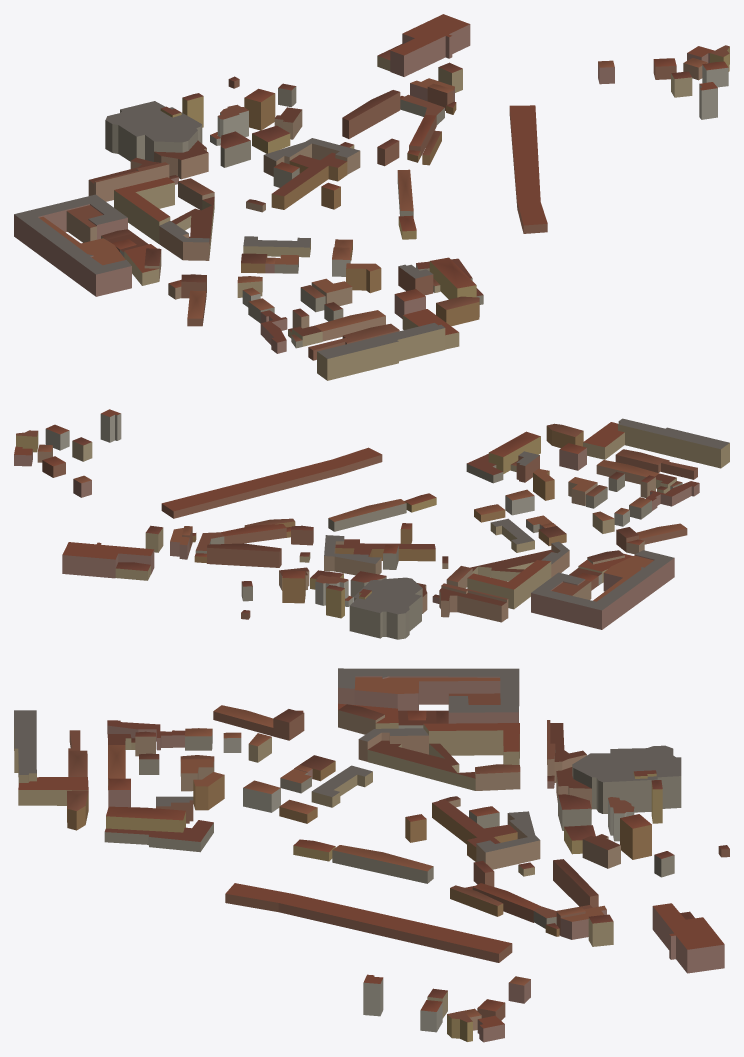
The model's file is SM_Fondale_Citta_Colle_04.fbx.
The picture shows the model from 3 angles, top to bottom: view 1: azimuth 30°, elevation 25°; view 2: azimuth 150°, elevation 25°; view 3: azimuth 270°, elevation 25°; orthographic projection. The views are drawn at different scales.
Visible parts, largest first — view 1: SM_Fondale_Citta_Colle_04; view 2: SM_Fondale_Citta_Colle_04; view 3: SM_Fondale_Citta_Colle_04.
Part boxes in pixels (<box>): SM_Fondale_Citta_Colle_04: <box>14,14,729,380</box>; SM_Fondale_Citta_Colle_04: <box>14,409,729,639</box>; SM_Fondale_Citta_Colle_04: <box>14,668,729,1042</box>.
Bounding box in the file's own units: 54286 × 44188 × 3490.
